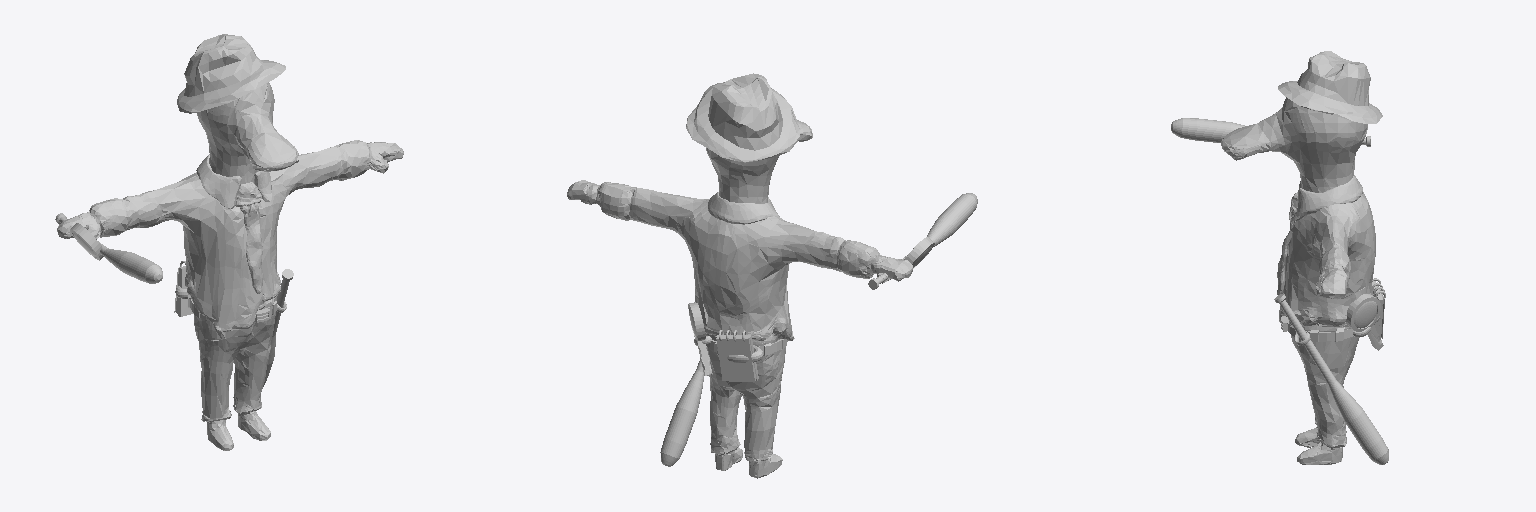
File: Detective Duckington_1.obj
3 renders of one model, left to right at view 1: azimuth 30°, elevation 25°; view 2: azimuth 150°, elevation 25°; view 3: azimuth 270°, elevation 25°, orthographic.
Parts seen in each view (by area): view 1: LP_Model.001_Plane.012, Hat.001_Cylinder.019, Tie.001_Sphere, Collar_Tie, BaseBall_Bat_inHand_Cylinder.008, BaseBall_Bat_on_Belt_Cylinder.004, MagnifyingGlass_In_Hand_Cylinder.003; view 2: LP_Model.001_Plane.012, Hat.001_Cylinder.019, BaseBall_Bat_on_Belt_Cylinder.004, NoteBook_Cube.002, BaseBall_Bat_inHand_Cylinder.008, Collar_Tie, MagGlass_in_pocket_Cylinder.002; view 3: LP_Model.001_Plane.012, Hat.001_Cylinder.019, BaseBall_Bat_on_Belt_Cylinder.004, Collar_Tie, BaseBall_Bat_inHand_Cylinder.008, MagGlass_in_pocket_Cylinder.002, belt.001_Cylinder.020, Tie.001_Sphere.
Part boxes in pixels (left/top/right/bottom): LP_Model.001_Plane.012: left=57, top=82, right=403, bottom=450; Hat.001_Cylinder.019: left=177, top=34, right=285, bottom=113; Tie.001_Sphere: left=235, top=182, right=262, bottom=293; Collar_Tie: left=196, top=154, right=271, bottom=208; BaseBall_Bat_inHand_Cylinder.008: left=55, top=213, right=162, bottom=283; BaseBall_Bat_on_Belt_Cylinder.004: left=263, top=269, right=293, bottom=386; MagnifyingGlass_In_Hand_Cylinder.003: left=70, top=223, right=103, bottom=260; LP_Model.001_Plane.012: left=567, top=120, right=912, bottom=478; Hat.001_Cylinder.019: left=686, top=73, right=800, bottom=162; BaseBall_Bat_on_Belt_Cylinder.004: left=660, top=358, right=703, bottom=466; NoteBook_Cube.002: left=716, top=330, right=758, bottom=381; BaseBall_Bat_inHand_Cylinder.008: left=868, top=193, right=977, bottom=289; Collar_Tie: left=708, top=192, right=779, bottom=224; MagGlass_in_pocket_Cylinder.002: left=688, top=302, right=712, bottom=375; LP_Model.001_Plane.012: left=1221, top=97, right=1375, bottom=464; Hat.001_Cylinder.019: left=1278, top=51, right=1382, bottom=123; BaseBall_Bat_on_Belt_Cylinder.004: left=1274, top=293, right=1388, bottom=464; Collar_Tie: left=1293, top=175, right=1362, bottom=221; BaseBall_Bat_inHand_Cylinder.008: left=1171, top=118, right=1370, bottom=146; MagGlass_in_pocket_Cylinder.002: left=1346, top=294, right=1383, bottom=350; belt.001_Cylinder.020: left=1281, top=316, right=1353, bottom=341; Tie.001_Sphere: left=1277, top=192, right=1297, bottom=294.
Size of the model in its own units: 9.96 by 10.91 by 5.49.